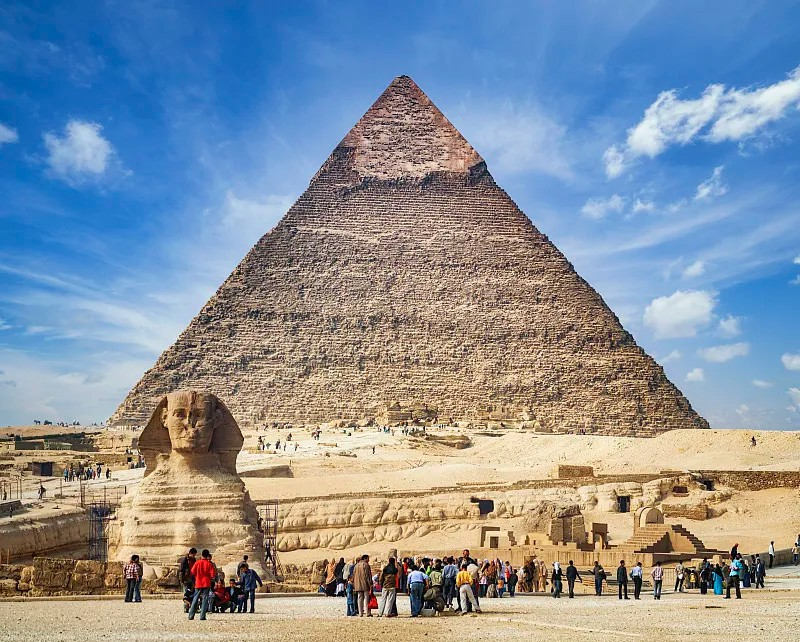Pyramid: (105, 76, 710, 438)
